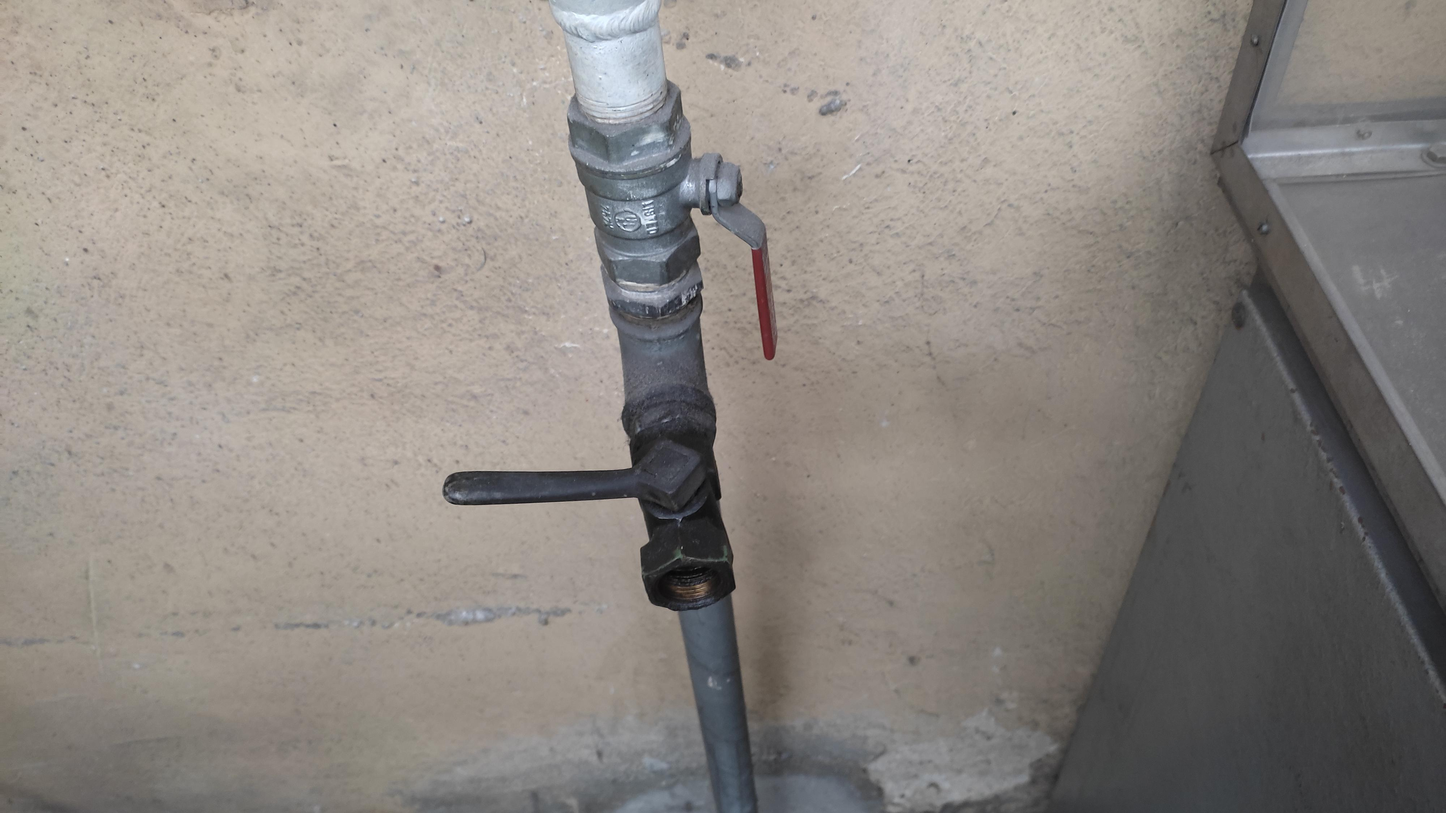closed valve: (442, 417, 746, 572)
opened valve: (561, 77, 788, 378)
